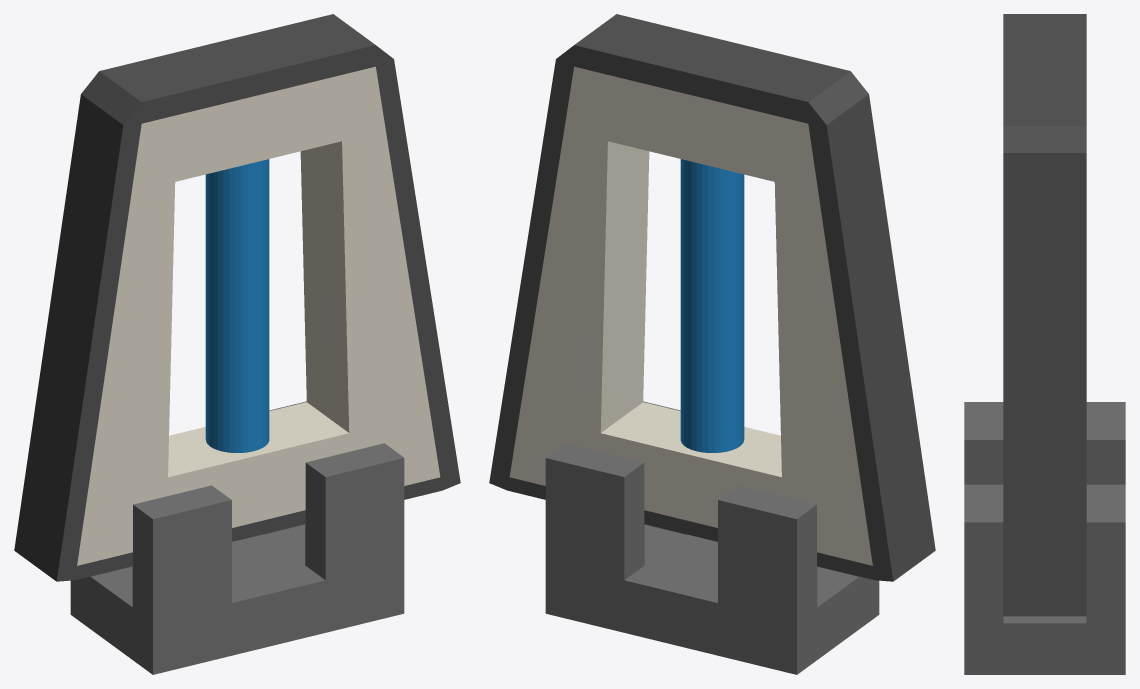
Rendered from basicobstacle 1.fbx.
3 views of the same model, side by side, from view 1: azimuth 30°, elevation 25°; view 2: azimuth 150°, elevation 25°; view 3: azimuth 270°, elevation 25° (orthographic). The views are drawn at different scales.
Visible parts, largest first — view 1: Cube, Cube.001; view 2: Cube, Cube.001; view 3: Cube, Cube.001.
Boxes of the visible parts, <box> form: Cube: <box>14,14,460,581</box>; Cube.001: <box>70,401,404,674</box>; Cube: <box>489,14,935,581</box>; Cube.001: <box>545,401,879,674</box>; Cube: <box>1003,14,1086,616</box>; Cube.001: <box>964,402,1125,674</box>.
Size of the model in its own units: 220 by 289 by 77.68.
